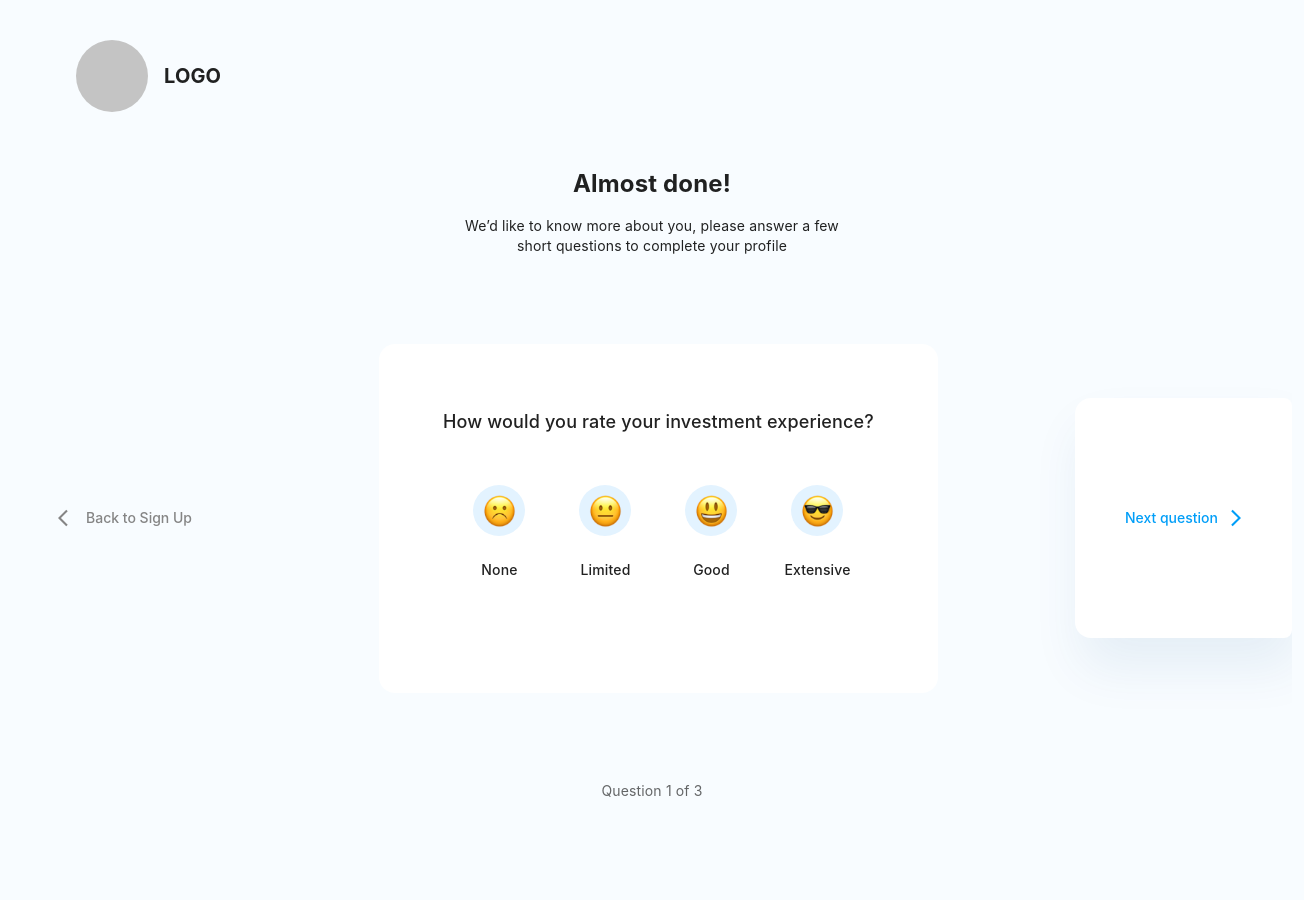
Scenario: investor/VerificationSelect › Should go to Question 3 after clicking next
The width and height of the screenshot is (1304, 900).
Click the button "Next question" at (1183,518), box [1075,398,1292,638]
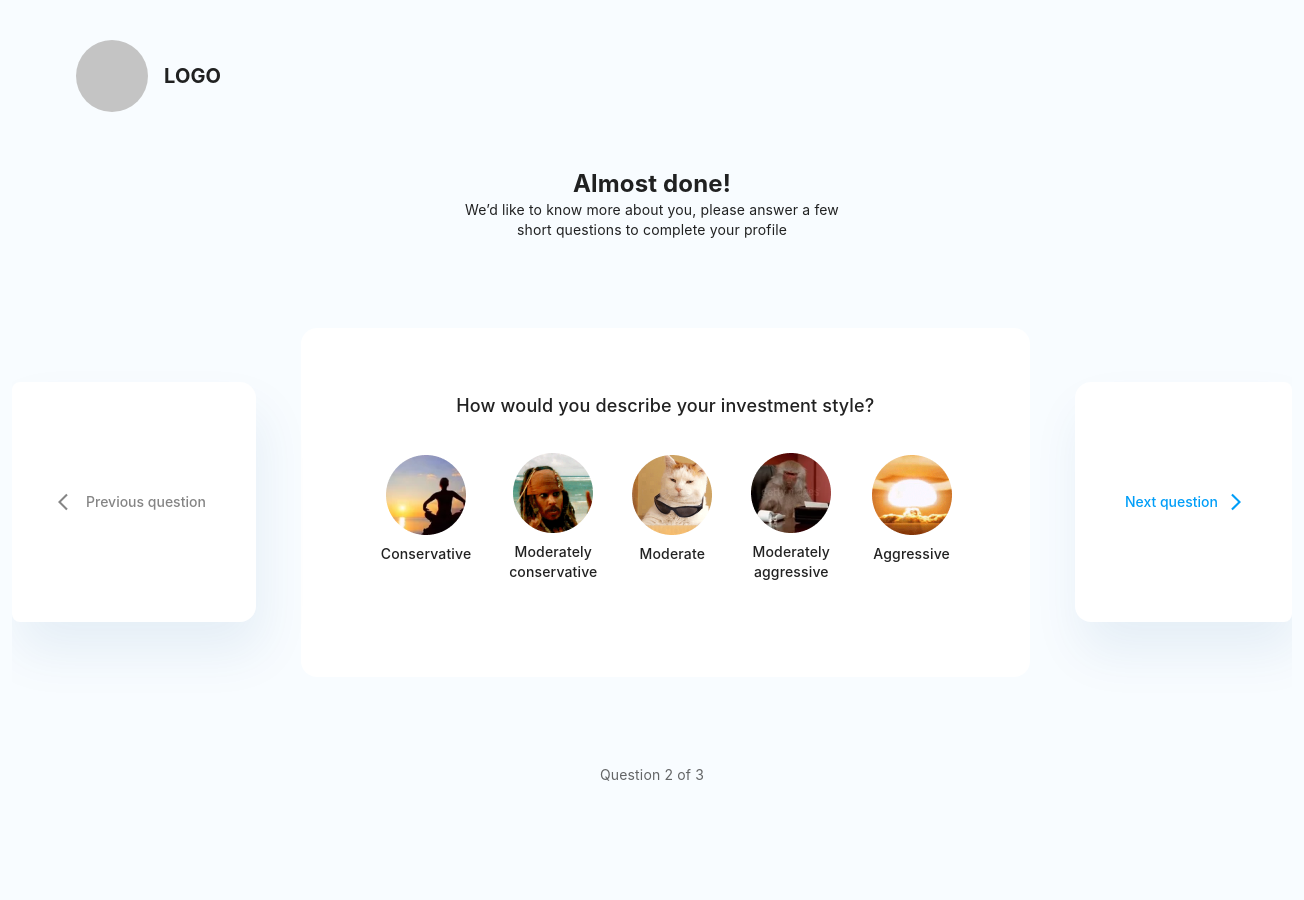
Click the button "Next question" at (1183,502), box [1075,382,1292,622]
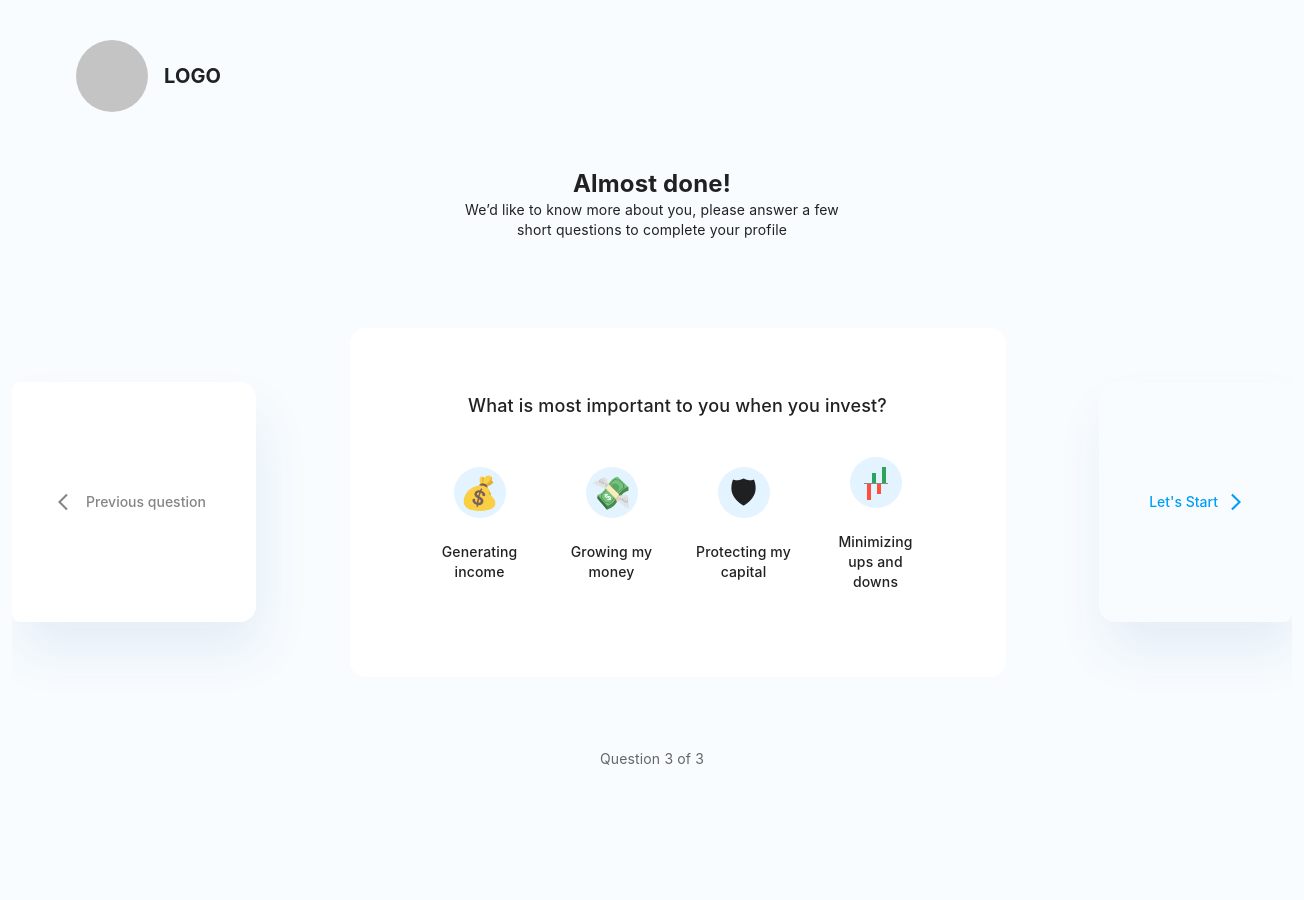
expect the text "Question 3 of 3" is shown: met, box [600,750,704,767]
